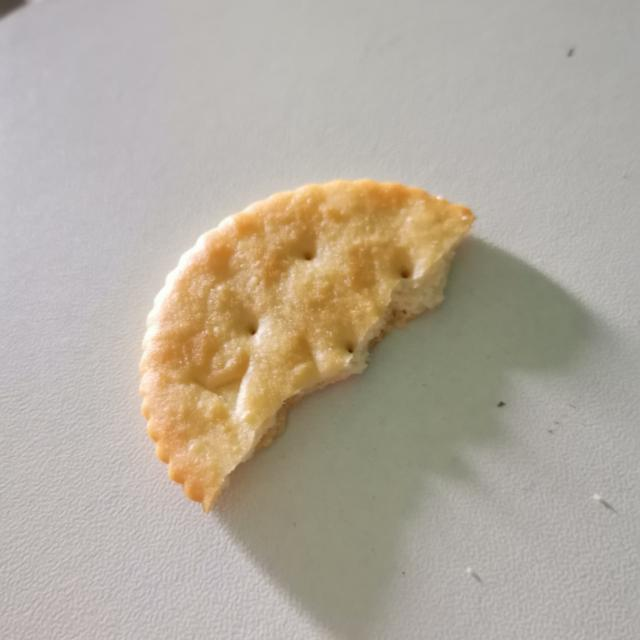Broken: (137, 176, 475, 514)
